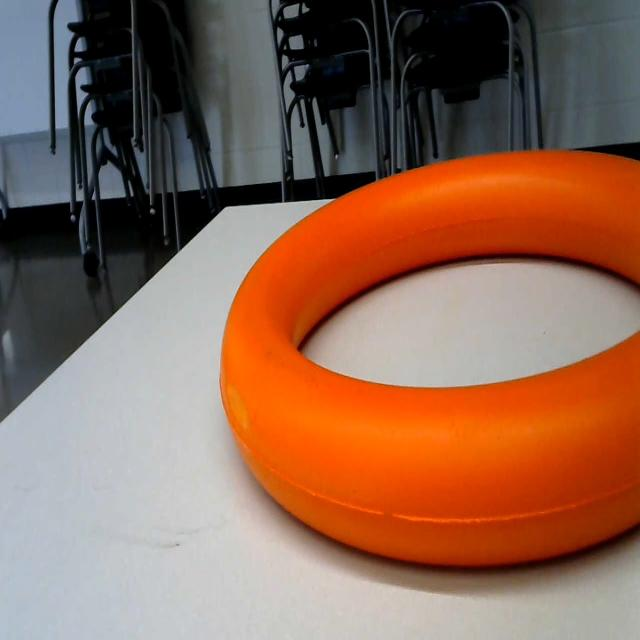note: (217, 149, 640, 582)
